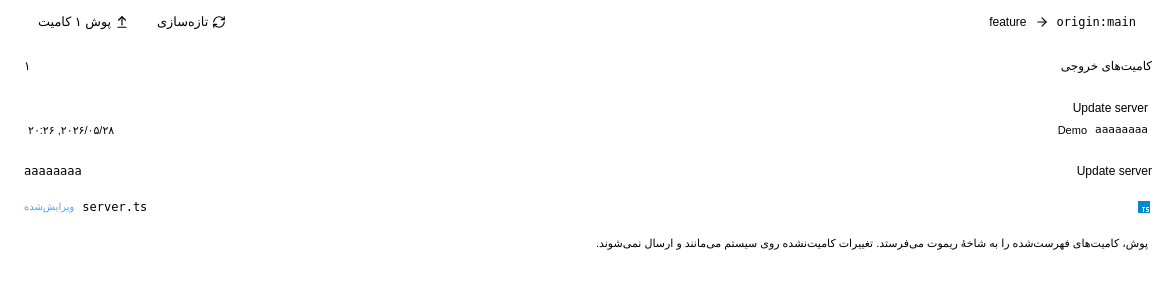
Scenario: moves files into the commit column, compares committed revisions, and restores the list in fa
Click the button "server.ts ویرایش‌شده": {"x": 115, "y": 206} [12,190,1164,222]
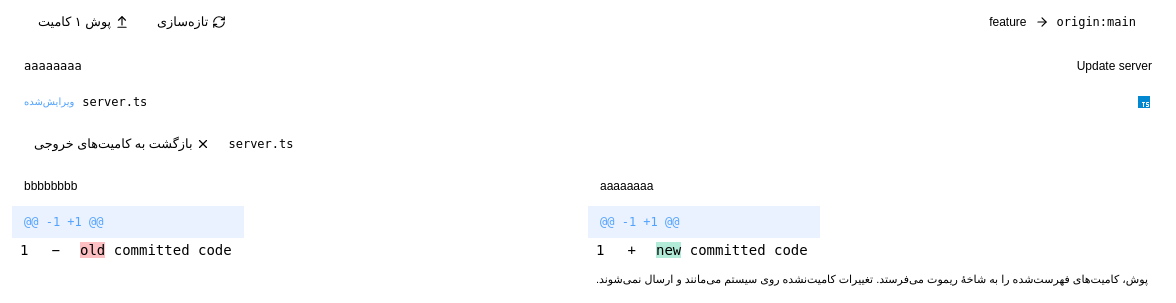
Expected: the text "aaaaaaaa" in the row of "bbbbbbbb" is shown, [600,179,653,193]
Result: the text "bbbbbbbb" is shown at [24,179,77,193]
Click the button "بازگشت به کامیت‌های خروجی": {"x": 122, "y": 144} [24,130,220,158]
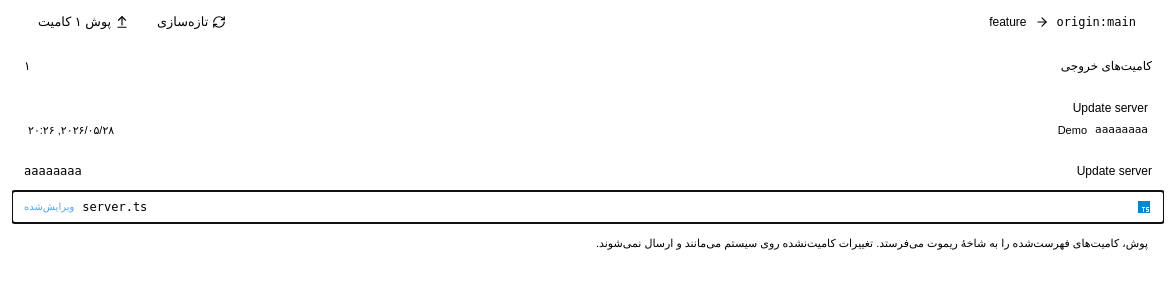
Result: the element "کامیت‌های خروجی" is shown at [12,50,1164,154]
